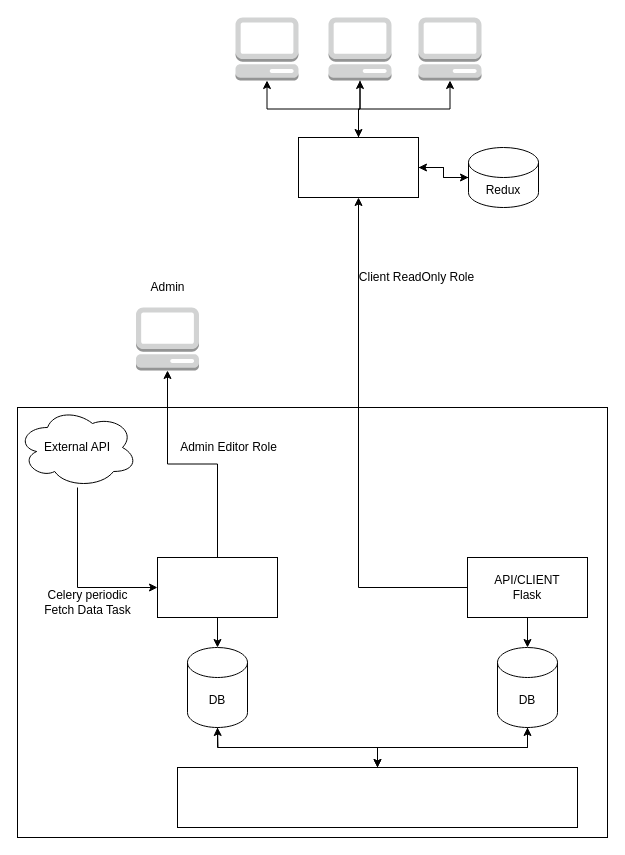
Image size: 625x855. Some labels were removed from this diagram. The centre of each missing label's shape, as x and y in pixels:
API/ADMIN Django: (x=217, y=587)
Frontend(React) NGINX: (x=358, y=167)
RABBIT MQ: (x=377, y=797)
